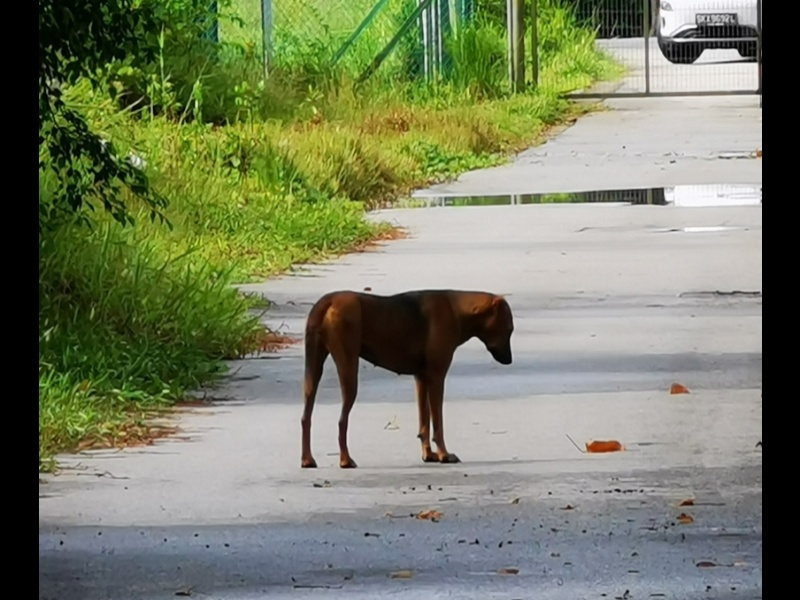dog: (296, 287, 517, 473)
